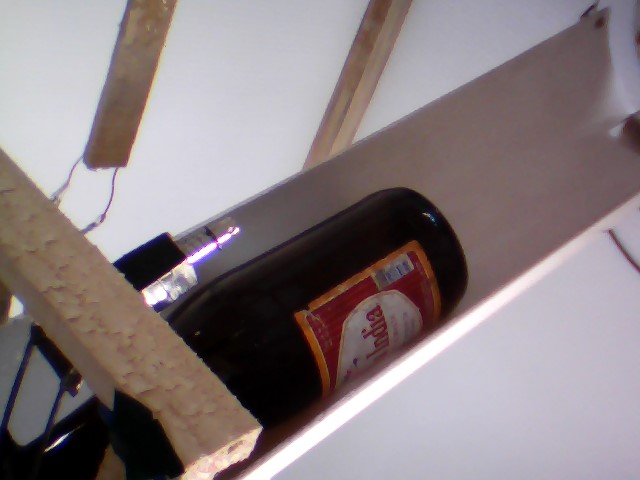vidrio: (181, 179, 470, 437)
